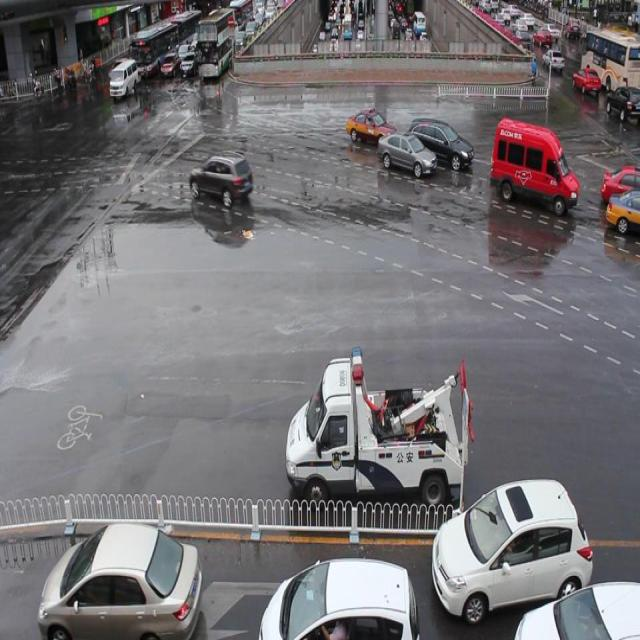bus: (285, 343, 473, 512)
car: (433, 476, 592, 618), (41, 519, 200, 640), (261, 556, 416, 640), (512, 578, 640, 639), (407, 114, 472, 169), (189, 151, 252, 206), (376, 130, 437, 177), (347, 106, 398, 148), (606, 186, 640, 237), (600, 163, 640, 206)
truck: (490, 115, 578, 213)
